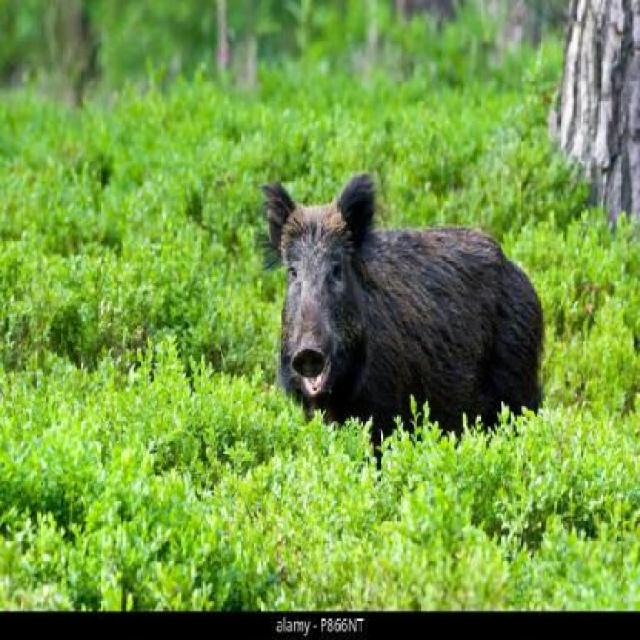wildboar: (260, 169, 546, 448)
